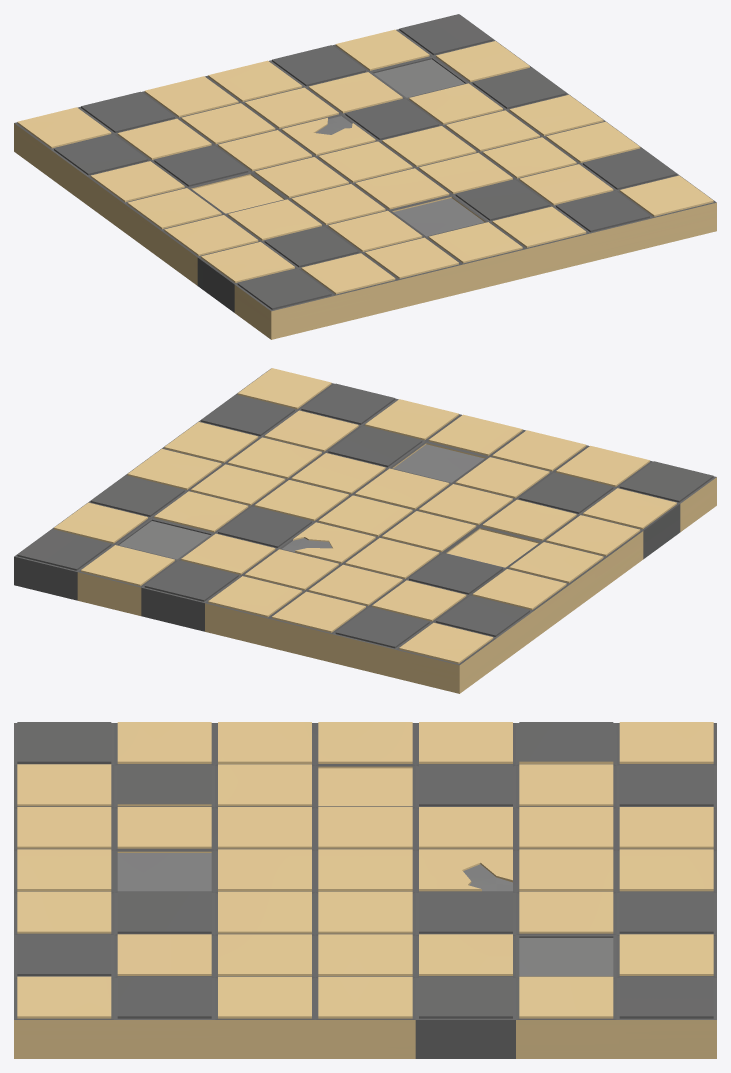
File: floor_tile_3.glb
The picture shows the model from 3 angles, top to bottom: view 1: azimuth 30°, elevation 25°; view 2: azimuth 150°, elevation 25°; view 3: azimuth 270°, elevation 25°; orthographic projection. The views are drawn at different scales.
Visible parts, largest first — view 1: floor_tile_3; view 2: floor_tile_3; view 3: floor_tile_3.
Boxes of the visible parts, x1=… form: floor_tile_3: x1=14, y1=14, x2=716, y2=339; floor_tile_3: x1=14, y1=368, x2=716, y2=693; floor_tile_3: x1=14, y1=722, x2=716, y2=1058.
Bounding box in the file's own units: 1.82 × 0.1179 × 1.82.
1 material, 1 textured.
